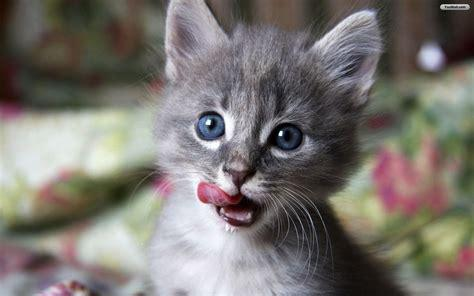cat: (148, 1, 404, 296)
